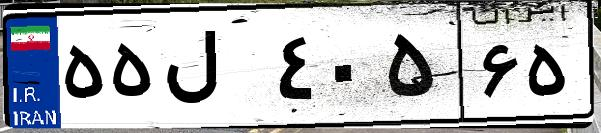0: (330, 28, 385, 110)
4: (270, 28, 330, 110)
5: (385, 28, 445, 110), (57, 26, 110, 100), (525, 38, 570, 115), (110, 28, 158, 98)
6: (475, 38, 525, 113)
ل: (158, 20, 270, 120)
